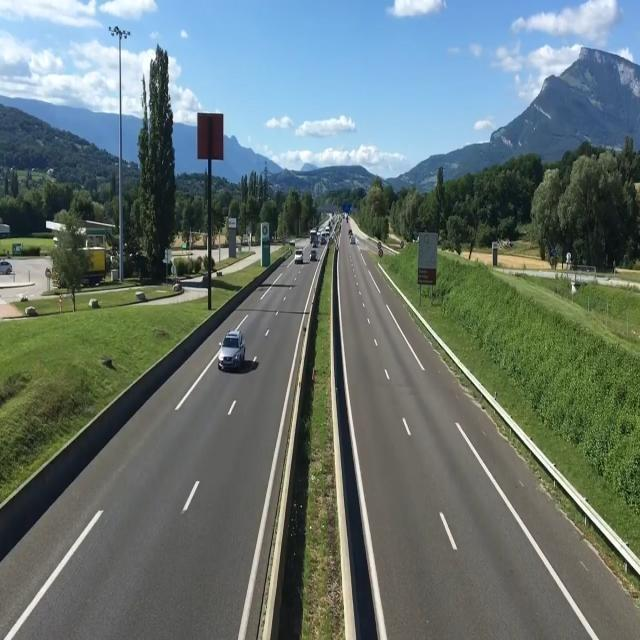Car: (216, 328, 246, 371), (310, 250, 318, 261), (349, 236, 356, 245)
